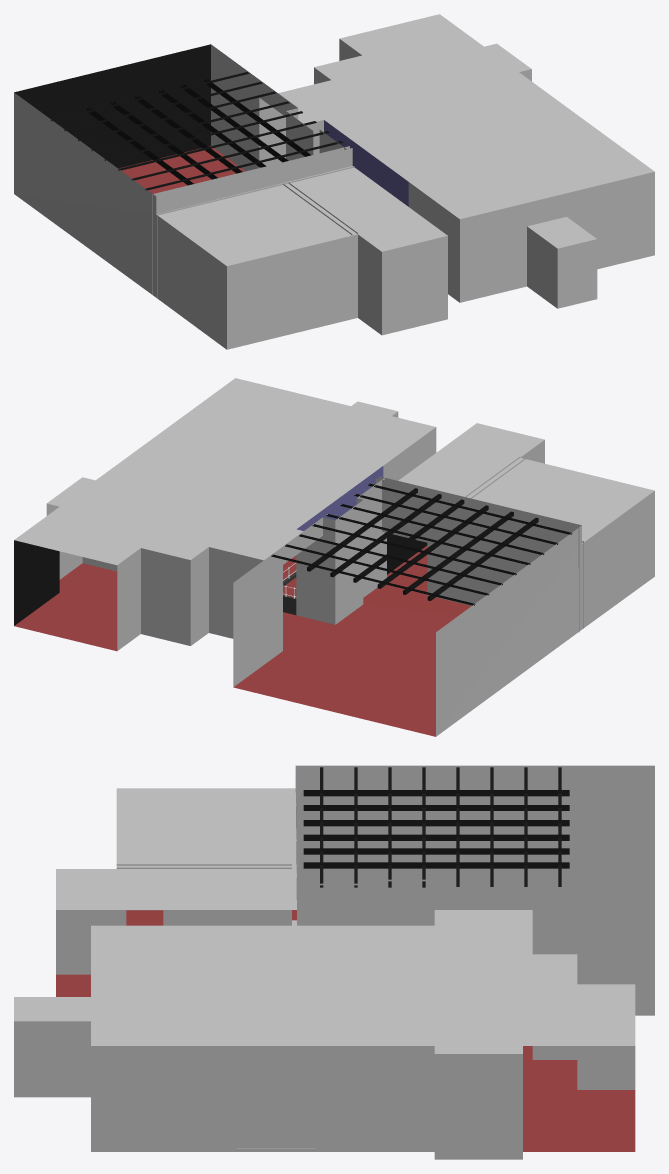
Rendered from Basic-Space.fbx.
3 views of the same model, one above another, from view 1: azimuth 30°, elevation 25°; view 2: azimuth 150°, elevation 25°; view 3: azimuth 270°, elevation 25° (orthographic). The views are drawn at different scales.
Visible parts, largest first — view 1: Wall-Box-Exhibition, Wall-Arc-2; view 2: Wall-Box-Exhibition, Wall-Arc-2, Stairs; view 3: Wall-Box-Exhibition, Wall-Arc-1.
Part boxes in pixels (x1,y1,x2,y2): Wall-Box-Exhibition: (14, 14, 654, 349); Wall-Arc-2: (152, 146, 354, 298); Wall-Box-Exhibition: (14, 378, 654, 736); Wall-Arc-2: (376, 478, 583, 631); Stairs: (283, 572, 296, 614); Wall-Box-Exhibition: (14, 765, 654, 1159); Wall-Arc-1: (116, 864, 291, 925).
Size of the model in its own units: 30.76 by 6.94 by 31.34.
